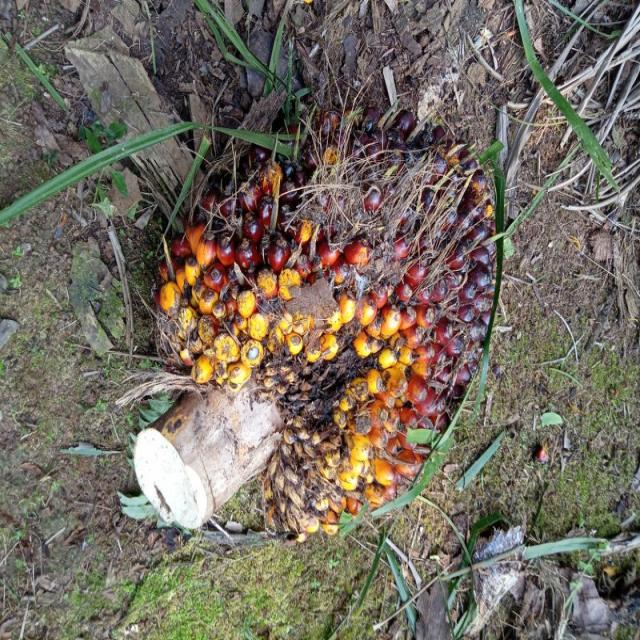fraksi 1: (135, 46, 536, 590)
